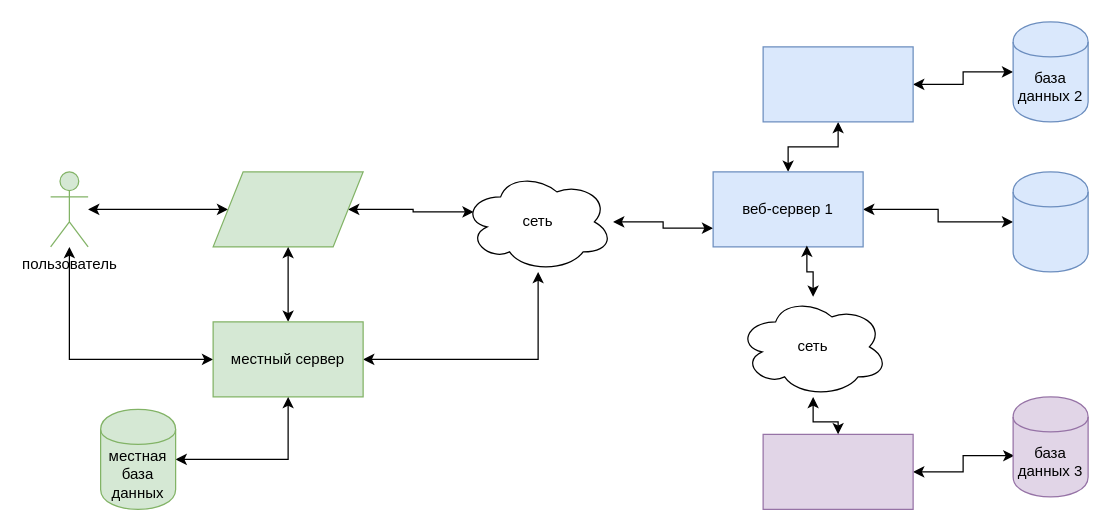
Image size: 1110x531. Some labels were removed from this diagram. The shapes that lost their labels are listed below. From the top down, each one's centre as x and y in pixels, then its label:
the point at 837,84: сервер 2
the point at 287,209: браузер
the point at 1050,221: база данных 1
the point at 837,471: сервер 3
